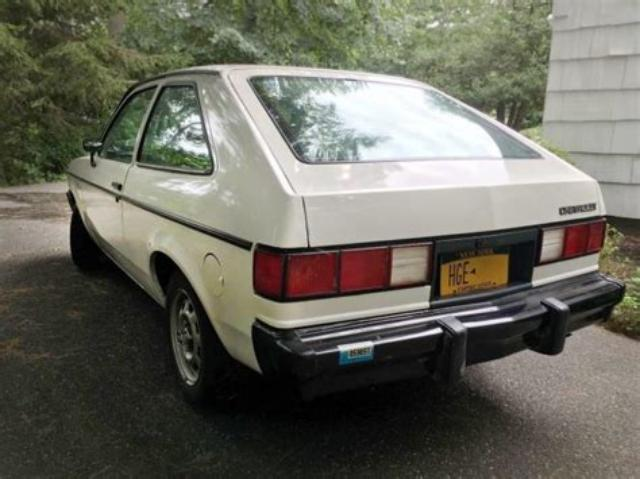chevette-1983: (68, 66, 624, 402)
